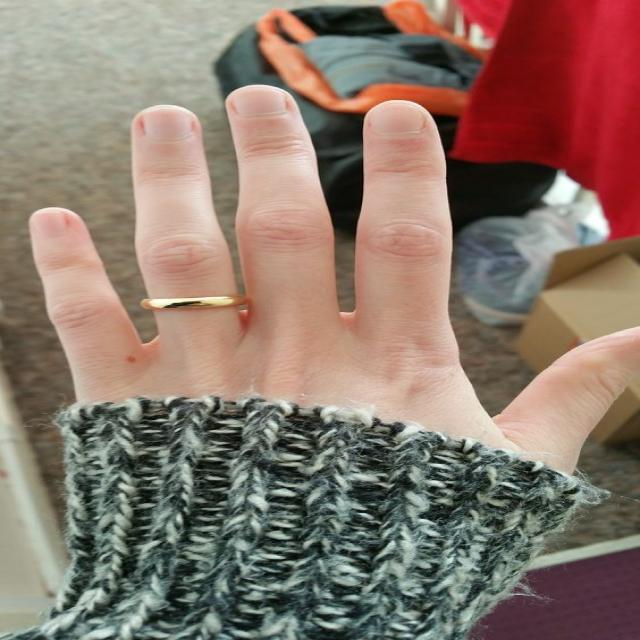Fingernail: (370, 103, 425, 136), (142, 107, 194, 141), (233, 88, 285, 117), (34, 211, 67, 237)
